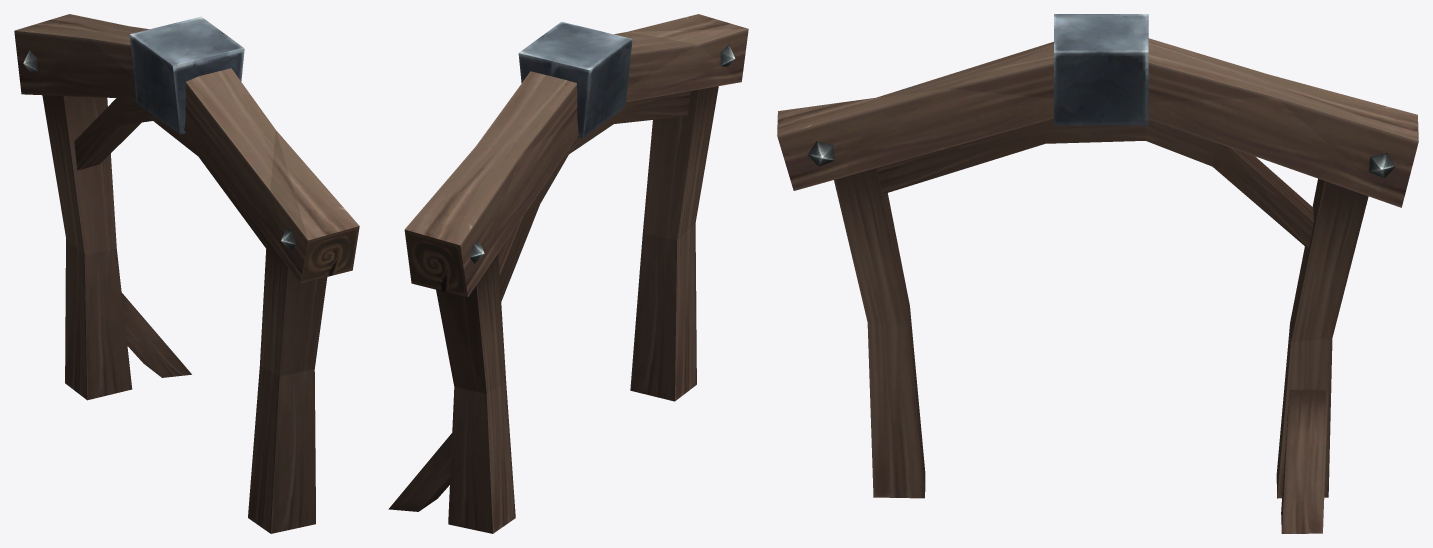
File: bandit_supportbeams_01.fbx
3 views of the same model, side by side, from view 1: azimuth 30°, elevation 25°; view 2: azimuth 150°, elevation 25°; view 3: azimuth 270°, elevation 25° (orthographic). The views are drawn at different scales.
Visible parts, largest first — view 1: obj0.689; view 2: obj0.689; view 3: obj0.689.
Part boxes in pixels (bbox=[...]): obj0.689: bbox=[14, 14, 359, 533]; obj0.689: bbox=[388, 14, 748, 533]; obj0.689: bbox=[777, 14, 1418, 533].
Bounding box in the file's own units: 1.99 × 6.38 × 8.18.
